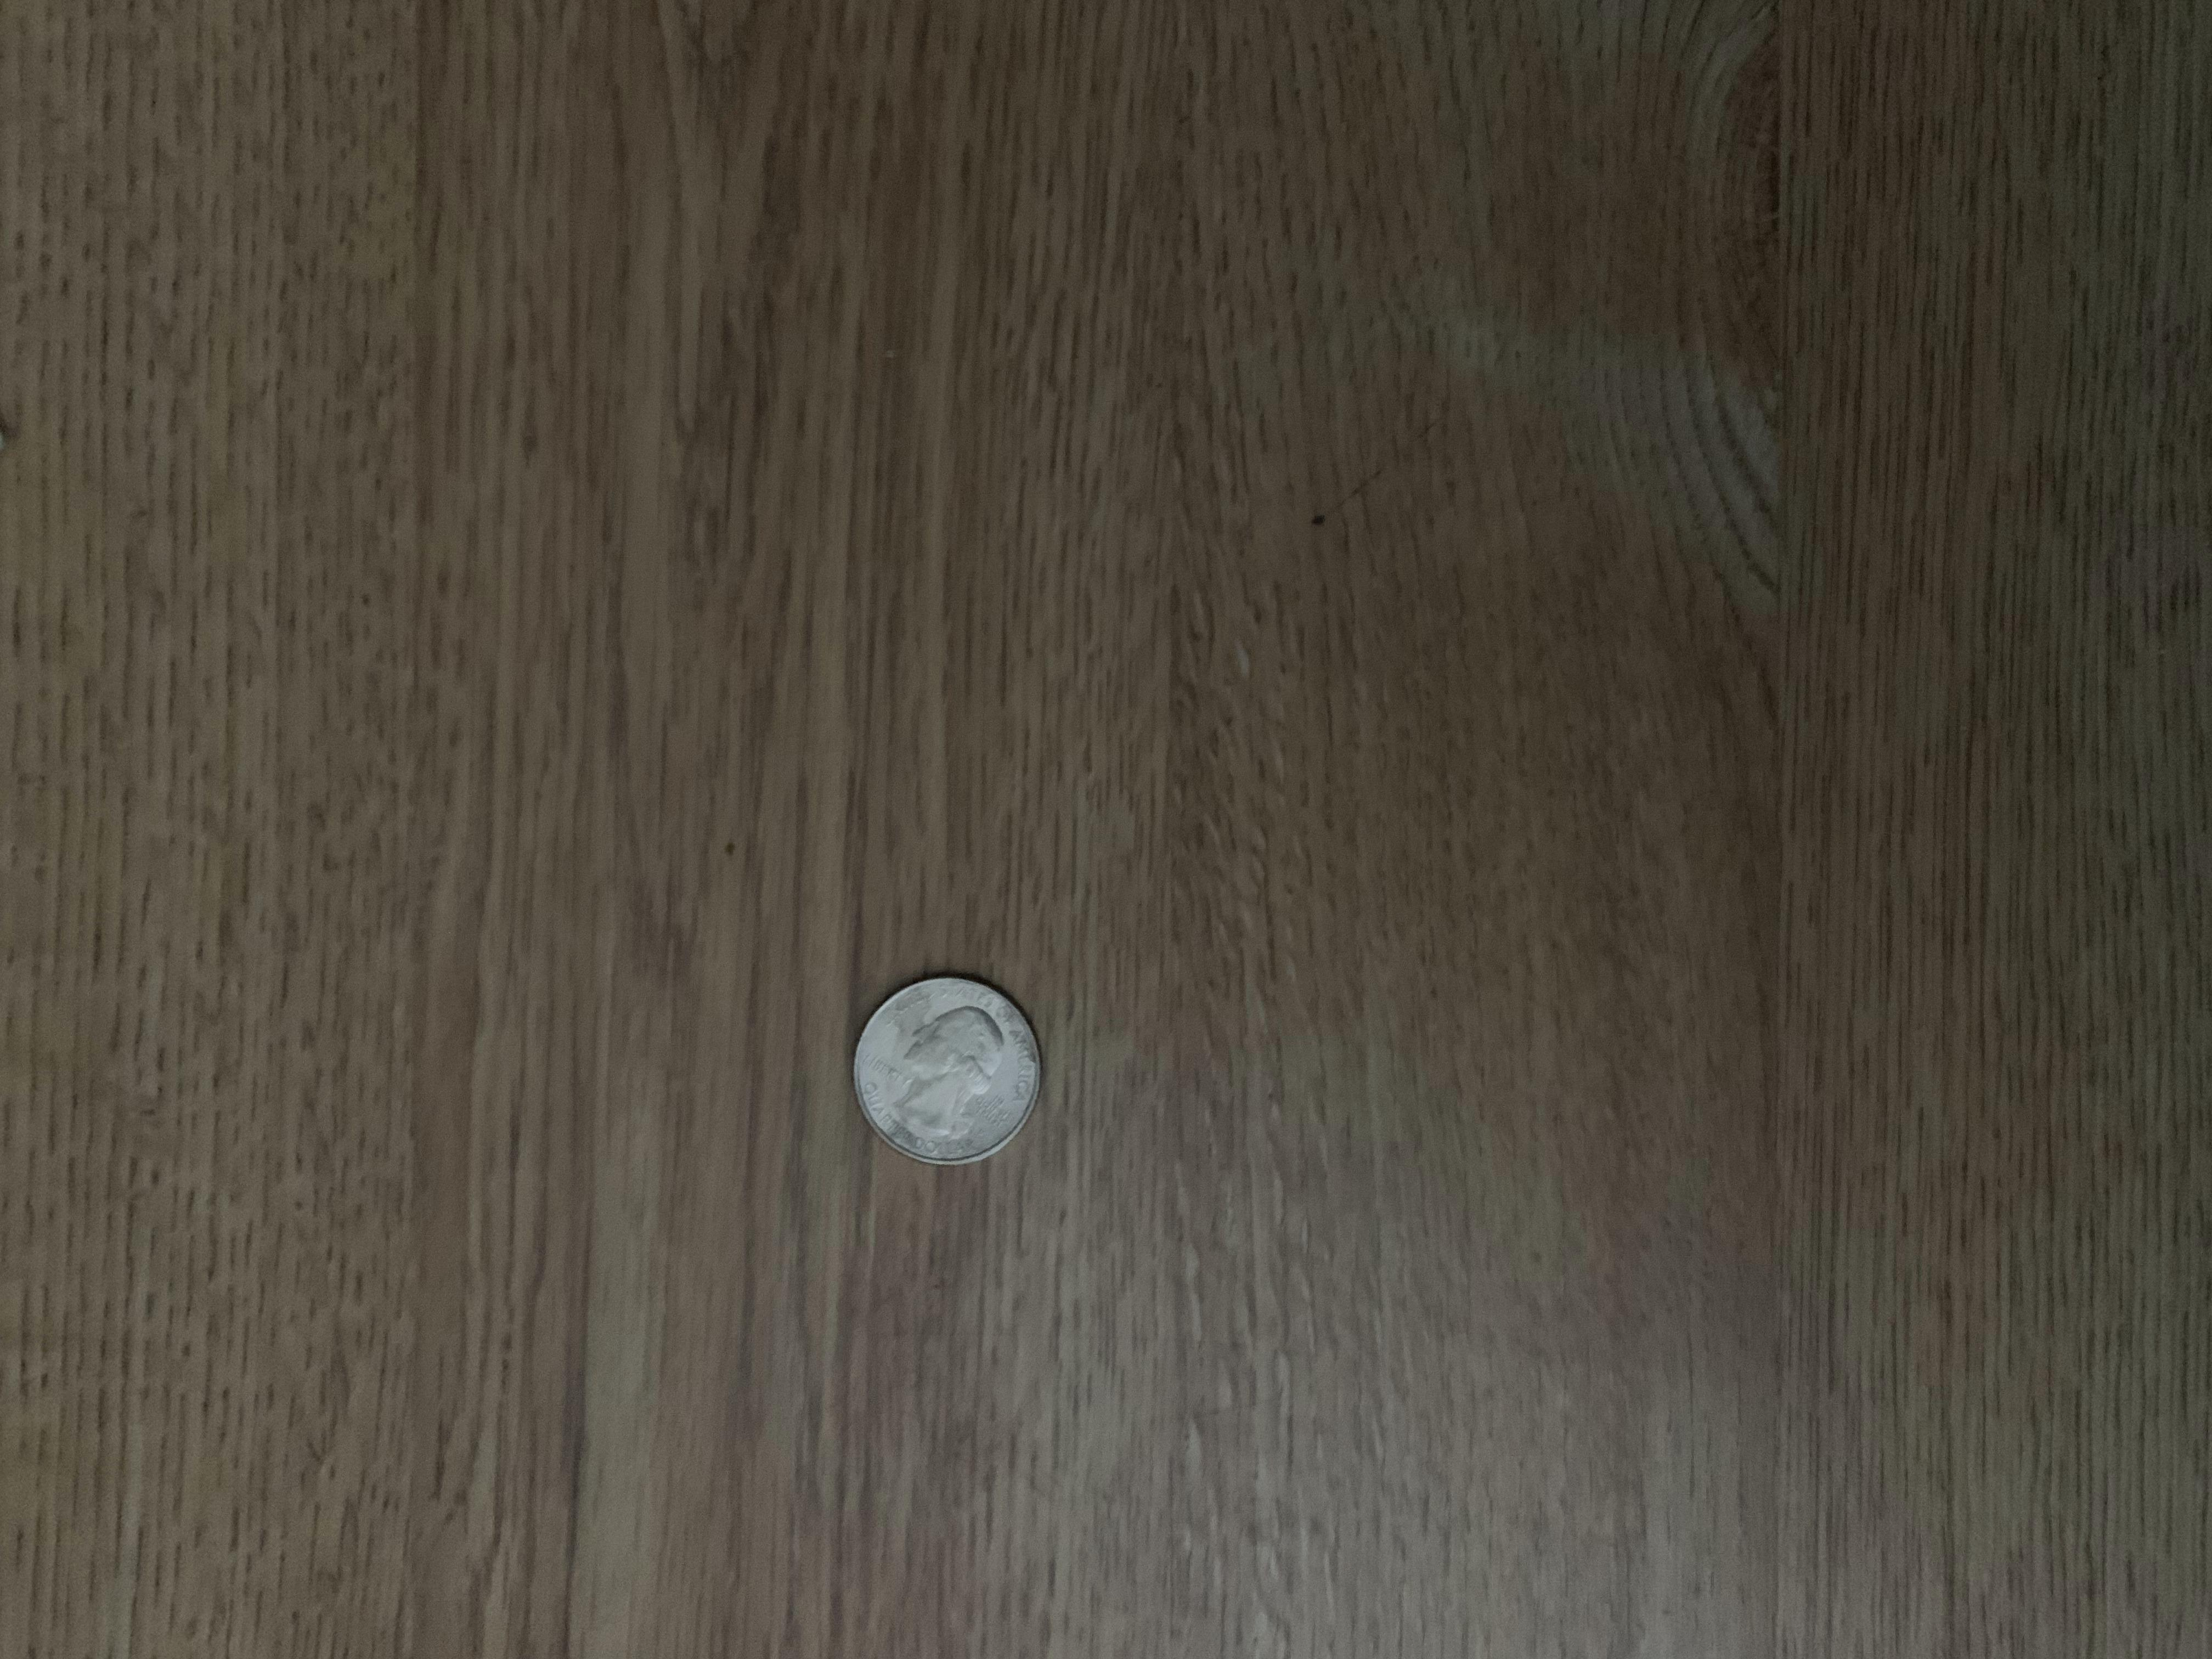Quarter: (845, 964, 1049, 1171)
